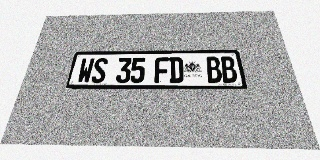3: (116, 58, 132, 83)
5: (130, 57, 146, 83)
B: (205, 57, 223, 83), (220, 57, 238, 83)
D: (169, 57, 184, 83)
F: (155, 57, 169, 83)
S: (91, 58, 108, 83)
W: (76, 58, 95, 83)
